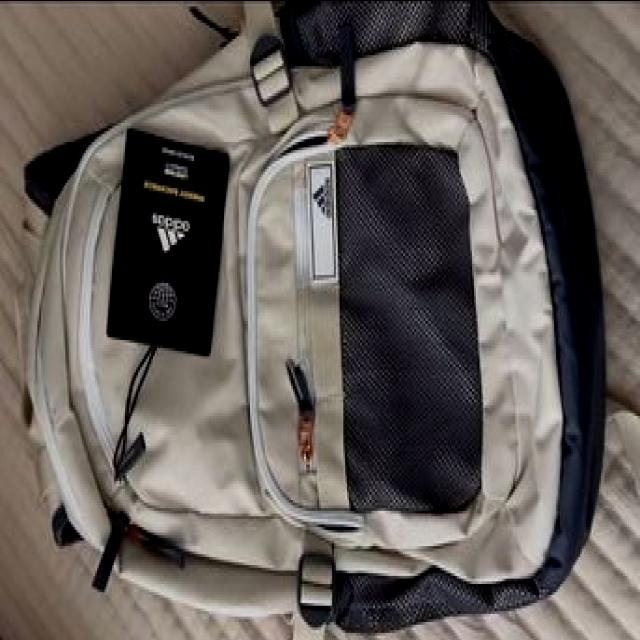backpack: (15, 4, 607, 640)
